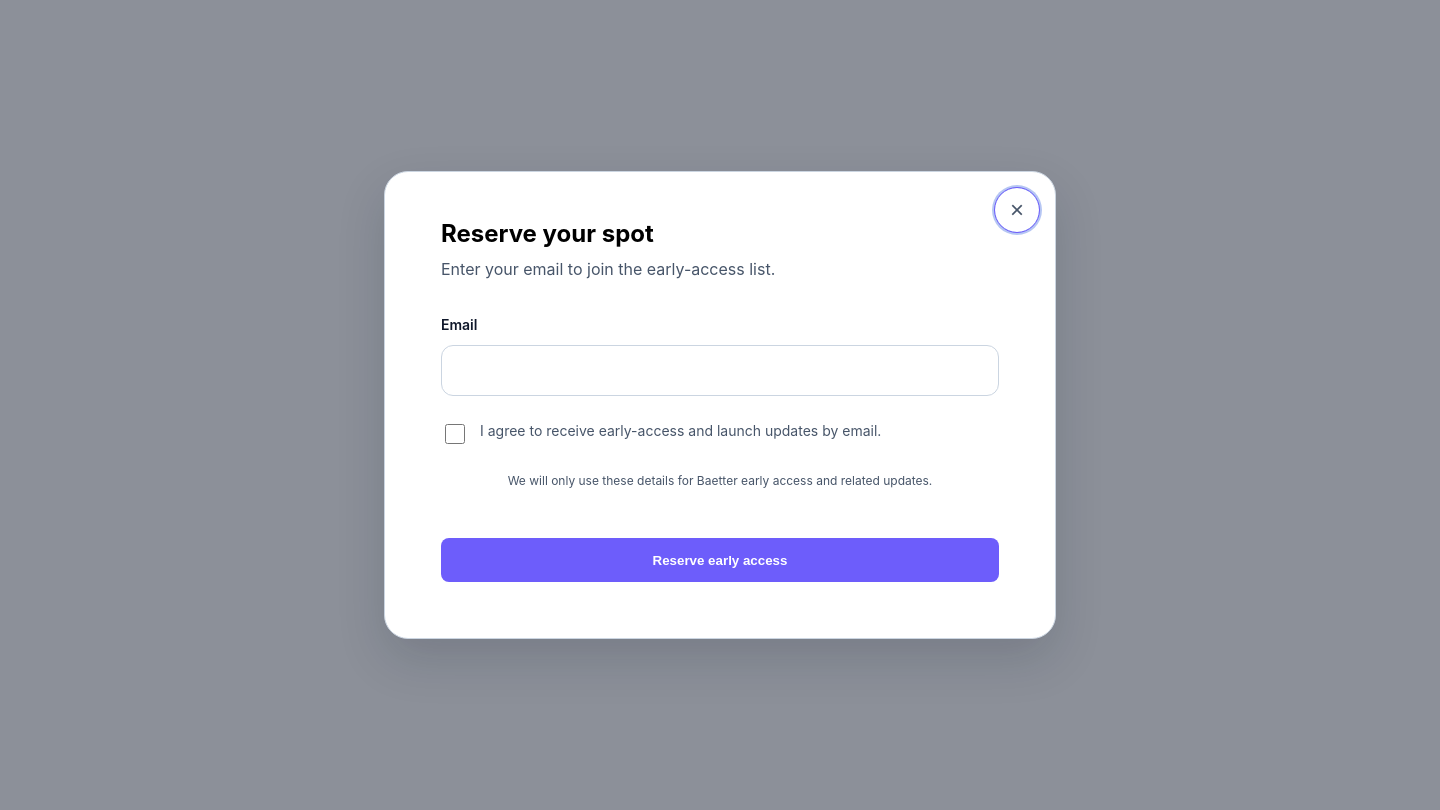
Scenario: EarlyAccessModal › maps network rejection and preserves values
In the field labelled "Email": [720, 370] box x1=441 y1=344 x2=999 y2=396, type "learner@example.com"
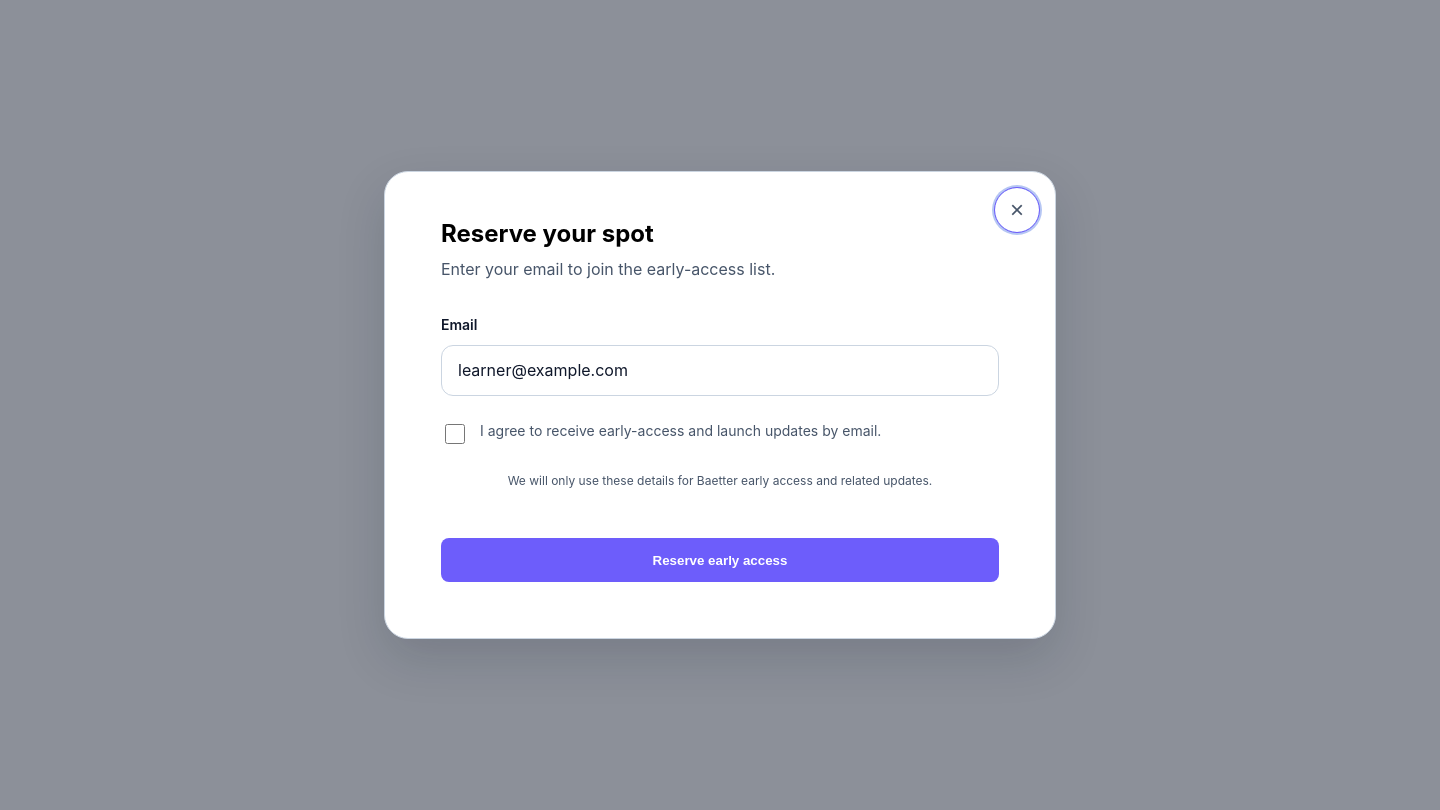
Click the checkbox labelled "I agree to receive early-access and launch updates by email.": [455, 434] box x1=445 y1=424 x2=465 y2=444
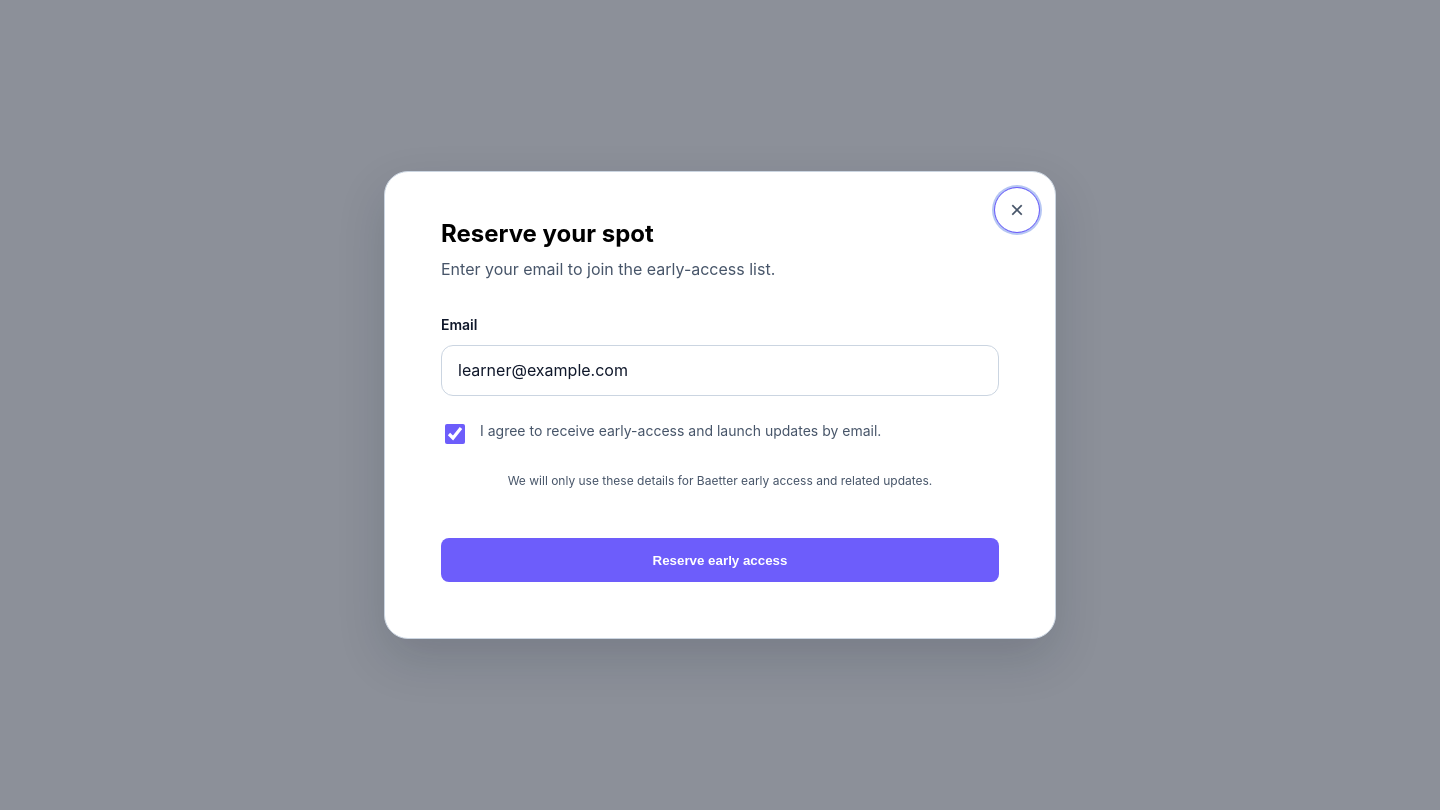
Submit the form with test id "early-access-form", box x1=441 y1=314 x2=999 y2=582
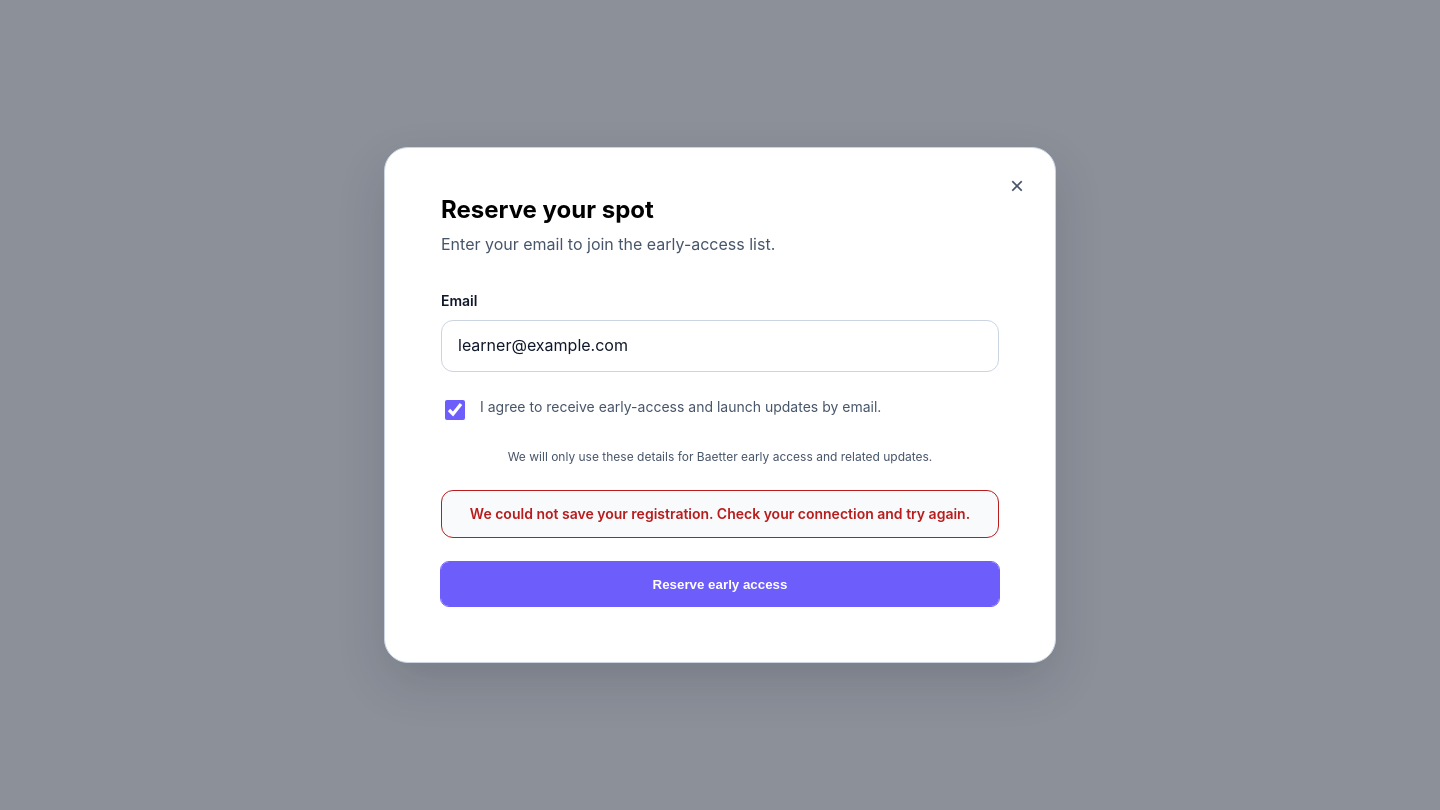
Check: the button "Reserve early access" is enabled, box x1=441 y1=562 x2=999 y2=606
Check: the checkbox labelled "I agree to receive early-access and launch updates by email." is checked, box x1=445 y1=400 x2=465 y2=420
Check: the message shows "We could not save your registration", box x1=470 y1=505 x2=970 y2=522
